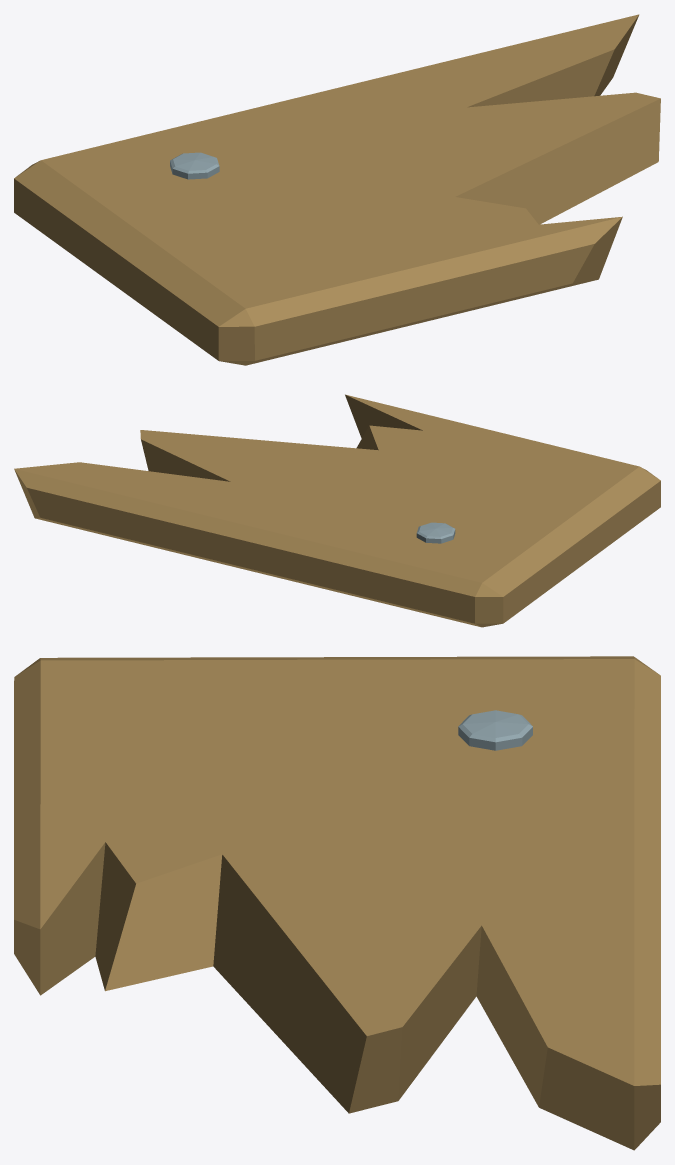
Rendered from Cracked.fbx.
3 views of the same model, one above another, from view 1: azimuth 30°, elevation 25°; view 2: azimuth 150°, elevation 25°; view 3: azimuth 270°, elevation 25° (orthographic). The views are drawn at different scales.
Visible parts, largest first — view 1: plain boards.018; view 2: plain boards.018; view 3: plain boards.018.
Part boxes in pixels (x1,y1,x2,y2): plain boards.018: [14, 14, 660, 365]; plain boards.018: [14, 394, 660, 627]; plain boards.018: [14, 656, 660, 1150].
Bounding box in the file's own units: 66.97 × 6.75 × 41.02.
